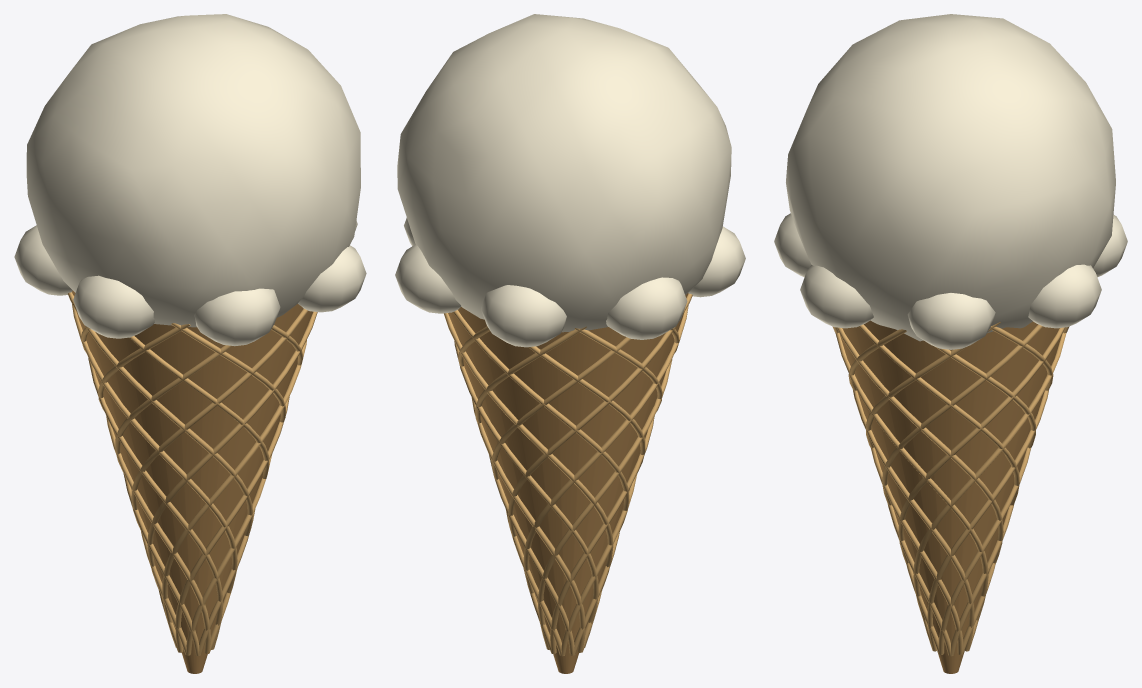
The model's file is icecream_vanilla_single_cone.glb.
The picture shows the model from 3 angles, left to right: view 1: azimuth 30°, elevation 25°; view 2: azimuth 150°, elevation 25°; view 3: azimuth 270°, elevation 25°; orthographic projection.
Parts seen in each view (by area): view 1: Single vanilla scoop, Pointed waffle cone, Single vanilla scoop lower scoop ruffle.004, Single vanilla scoop lower scoop ruffle.005, Single vanilla scoop lower scoop ruffle.006, Single vanilla scoop lower scoop ruffle.003, Diagonal baked waffle ridge, Diagonal baked waffle ridge.013, Diagonal baked waffle ridge.009, Diagonal baked waffle ridge.014, Diagonal baked waffle ridge.001, Diagonal baked waffle ridge.012 (+10 smaller); view 2: Single vanilla scoop, Pointed waffle cone, Single vanilla scoop lower scoop ruffle.002, Single vanilla scoop lower scoop ruffle.003, Single vanilla scoop lower scoop ruffle.001, Single vanilla scoop lower scoop ruffle.004, Diagonal baked waffle ridge.010, Diagonal baked waffle ridge.007, Diagonal baked waffle ridge.006, Diagonal baked waffle ridge.011, Diagonal baked waffle ridge.019, Diagonal baked waffle ridge.008 (+10 smaller); view 3: Single vanilla scoop, Pointed waffle cone, Single vanilla scoop lower scoop ruffle, Single vanilla scoop lower scoop ruffle.001, Single vanilla scoop lower scoop ruffle.006, Diagonal baked waffle ridge.003, Diagonal baked waffle ridge.017, Diagonal baked waffle ridge.004, Diagonal baked waffle ridge.016, Diagonal baked waffle ridge.002, Diagonal baked waffle ridge.018, Single vanilla scoop lower scoop ruffle.005 (+10 smaller).
Boxes of the visible parts, x1=… form: Single vanilla scoop: x1=26, y1=14, x2=360, y2=327; Pointed waffle cone: x1=72, y1=290, x2=313, y2=673; Single vanilla scoop lower scoop ruffle.004: x1=73, y1=275, x2=154, y2=338; Single vanilla scoop lower scoop ruffle.005: x1=194, y1=288, x2=280, y2=346; Single vanilla scoop lower scoop ruffle.006: x1=298, y1=245, x2=366, y2=312; Single vanilla scoop lower scoop ruffle.003: x1=14, y1=225, x2=72, y2=295; Diagonal baked waffle ridge: x1=72, y1=304, x2=237, y2=593; Diagonal baked waffle ridge.013: x1=147, y1=311, x2=317, y2=589; Diagonal baked waffle ridge.009: x1=88, y1=358, x2=222, y2=649; Diagonal baked waffle ridge.014: x1=162, y1=340, x2=306, y2=647; Diagonal baked waffle ridge.001: x1=68, y1=292, x2=253, y2=535; Diagonal baked waffle ridge.012: x1=131, y1=308, x2=308, y2=530; Single vanilla scoop: x1=397, y1=14, x2=731, y2=332; Pointed waffle cone: x1=448, y1=293, x2=688, y2=673; Single vanilla scoop lower scoop ruffle.002: x1=481, y1=285, x2=566, y2=347; Single vanilla scoop lower scoop ruffle.003: x1=606, y1=277, x2=687, y2=339; Single vanilla scoop lower scoop ruffle.001: x1=395, y1=244, x2=461, y2=313; Single vanilla scoop lower scoop ruffle.004: x1=688, y1=226, x2=745, y2=297; Diagonal baked waffle ridge.010: x1=523, y1=305, x2=688, y2=593; Diagonal baked waffle ridge.007: x1=443, y1=313, x2=613, y2=590; Diagonal baked waffle ridge.006: x1=454, y1=341, x2=598, y2=647; Diagonal baked waffle ridge.011: x1=538, y1=359, x2=672, y2=649; Diagonal baked waffle ridge.019: x1=508, y1=293, x2=692, y2=536; Diagonal baked waffle ridge.008: x1=453, y1=310, x2=629, y2=531; Single vanilla scoop: x1=786, y1=14, x2=1115, y2=341; Pointed waffle cone: x1=840, y1=320, x2=1061, y2=673; Single vanilla scoop lower scoop ruffle: x1=907, y1=293, x2=995, y2=349; Single vanilla scoop lower scoop ruffle.001: x1=1028, y1=264, x2=1101, y2=328; Single vanilla scoop lower scoop ruffle.006: x1=800, y1=265, x2=873, y2=328; Diagonal baked waffle ridge.003: x1=835, y1=332, x2=988, y2=621; Diagonal baked waffle ridge.017: x1=913, y1=332, x2=1066, y2=621; Diagonal baked waffle ridge.004: x1=836, y1=327, x2=1003, y2=563; Diagonal baked waffle ridge.016: x1=898, y1=327, x2=1065, y2=563; Diagonal baked waffle ridge.002: x1=853, y1=390, x2=974, y2=651; Diagonal baked waffle ridge.018: x1=927, y1=390, x2=1048, y2=651; Single vanilla scoop lower scoop ruffle.005: x1=774, y1=213, x2=811, y2=277.
Size of the model in its own units: 0.136 by 0.277 by 0.1386.
